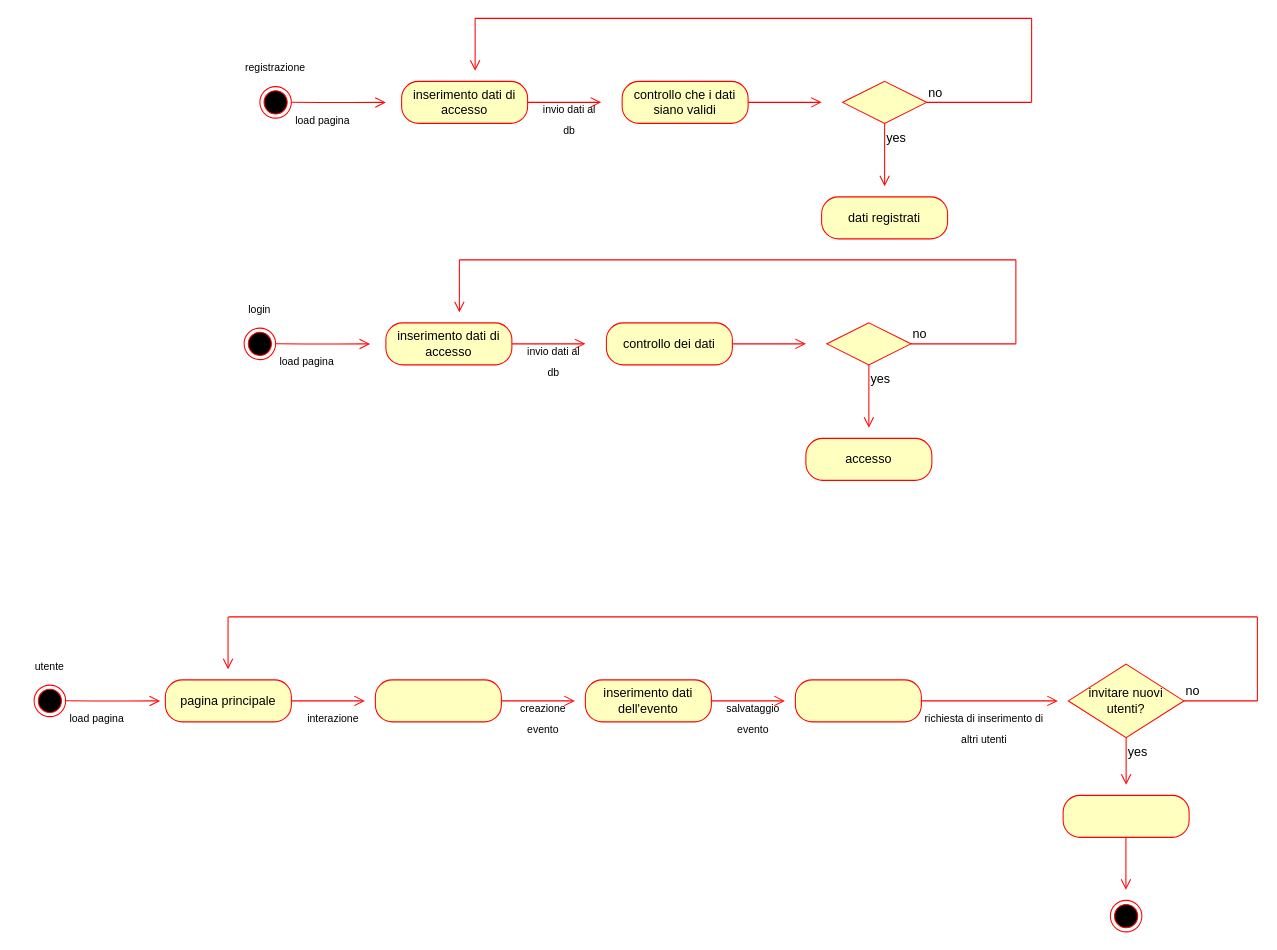
Image size: 1277x950. Some labels were removed from this diagram. Each missing label, with the centre of its shape:
"dati corretti?" belongs at point (868, 343).
"dati validi?" belongs at point (884, 101).
"invito inviato" belongs at point (1125, 815).
"pressione del pulsante per creare un evento" belongs at point (437, 700).
"pressione del pulsante per invitare nuovi partecipanti" belongs at point (857, 700).
